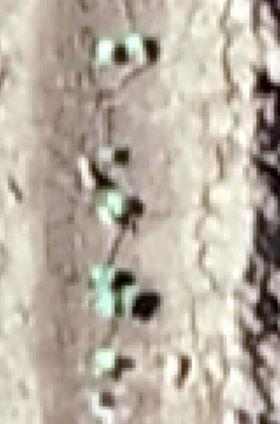cotton: (97, 40, 148, 61), (100, 291, 137, 315), (89, 268, 113, 291), (102, 191, 122, 216), (95, 349, 116, 372)
